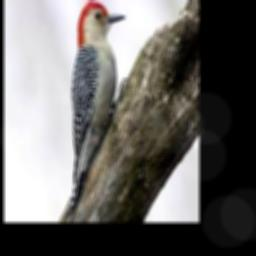Woodpecker: (61, 1, 125, 222)
